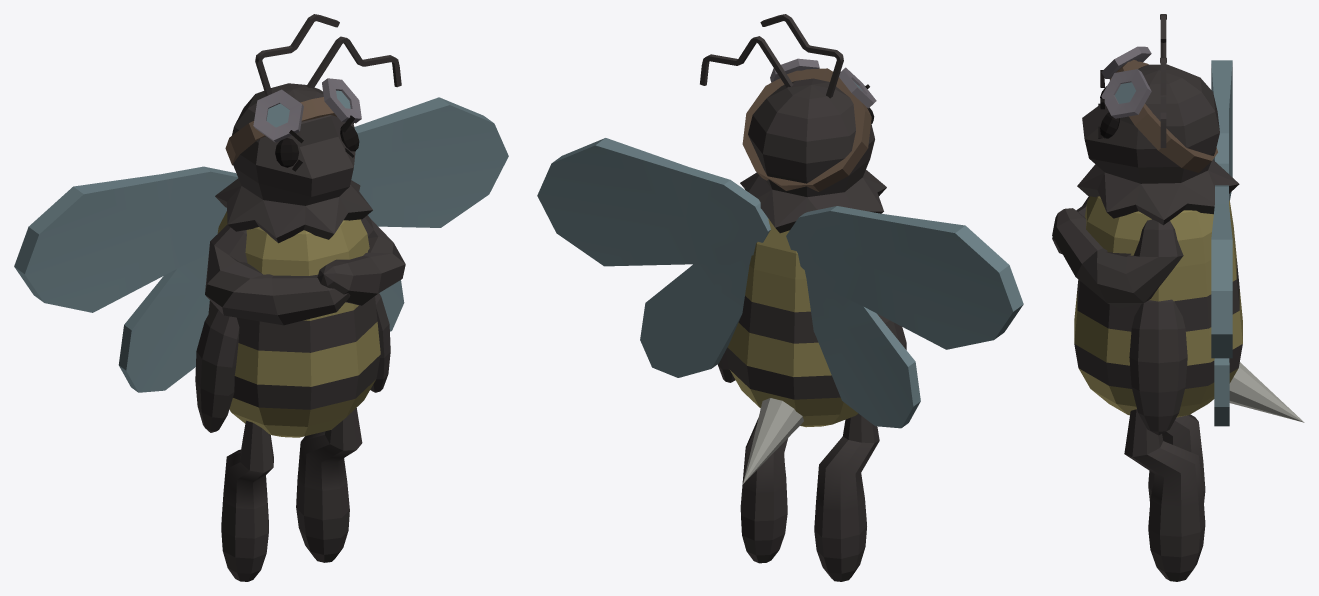
File: WarTable_CaptBeatrice.fbx
3 views of the same model, side by side, from view 1: azimuth 30°, elevation 25°; view 2: azimuth 150°, elevation 25°; view 3: azimuth 270°, elevation 25° (orthographic). The views are drawn at different scales.
Parts seen in each view (by area): view 1: Seated_CaptBeatrice; view 2: Seated_CaptBeatrice; view 3: Seated_CaptBeatrice.
Part boxes in pixels (bbox=[...]): Seated_CaptBeatrice: bbox=[14, 14, 508, 581]; Seated_CaptBeatrice: bbox=[537, 14, 1023, 581]; Seated_CaptBeatrice: bbox=[1052, 14, 1304, 581].
Size of the model in its own units: 6.33 by 6.95 by 2.85.
